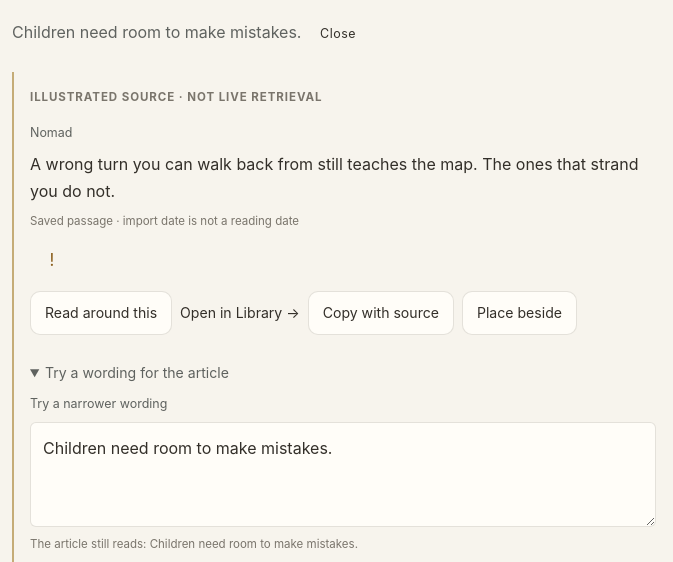
Test: OpenSentence › says the surrounding lines were not saved instead of inventing them
The width and height of the screenshot is (673, 562).
Click the button "Read around this" at (101, 313), box left=30, top=291, right=172, bottom=335
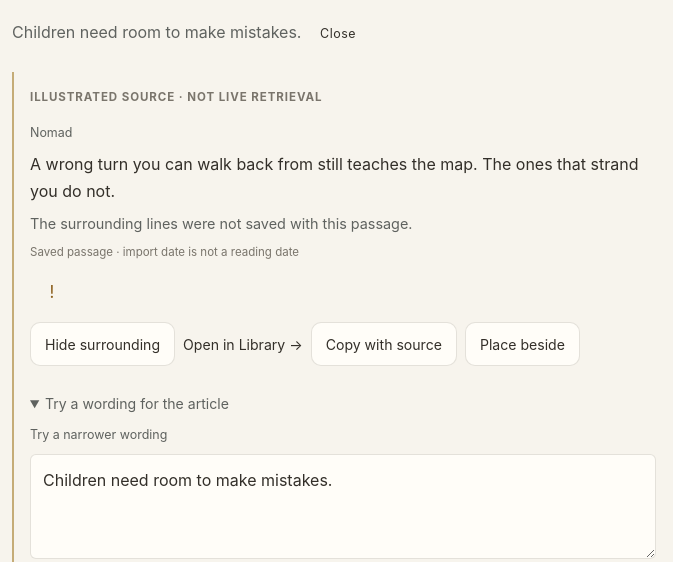
Expected: the text "The surrounding lines were not saved with this passage." is shown, left=30, top=215, right=412, bottom=232
